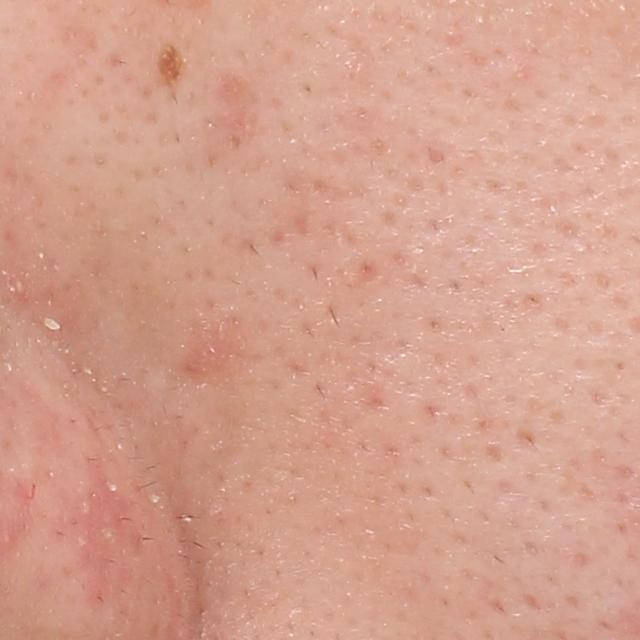nevus: (157, 36, 187, 92)
